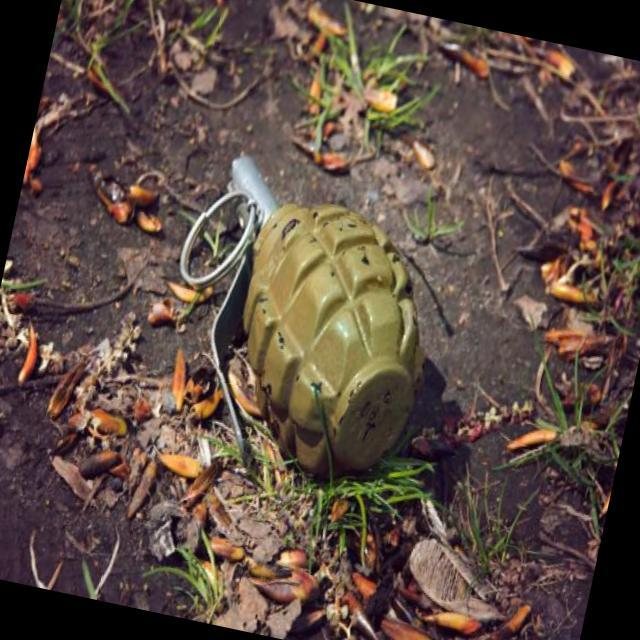grenade: (144, 138, 458, 472)
